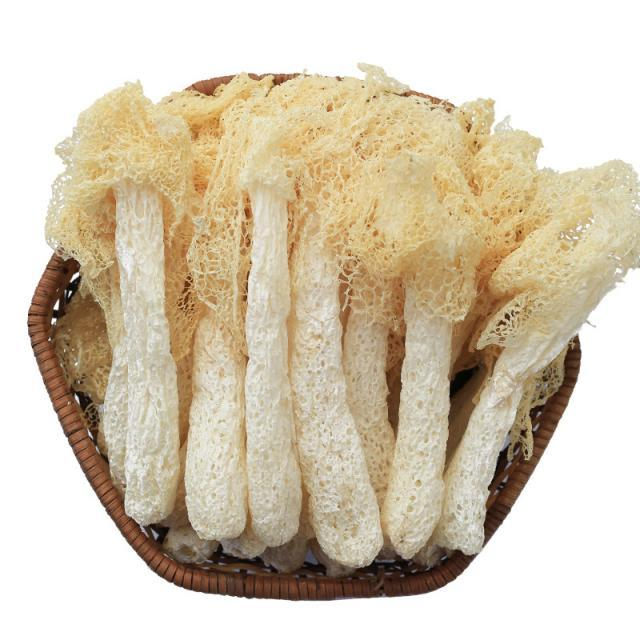Dictyophora indusiate: (443, 159, 635, 556), (55, 79, 184, 520), (280, 82, 387, 567), (159, 85, 253, 537), (217, 81, 305, 543), (373, 102, 455, 559)
